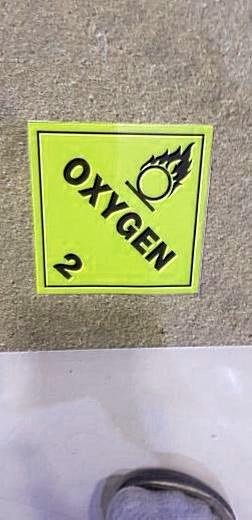oxidizer: (27, 120, 214, 295)
